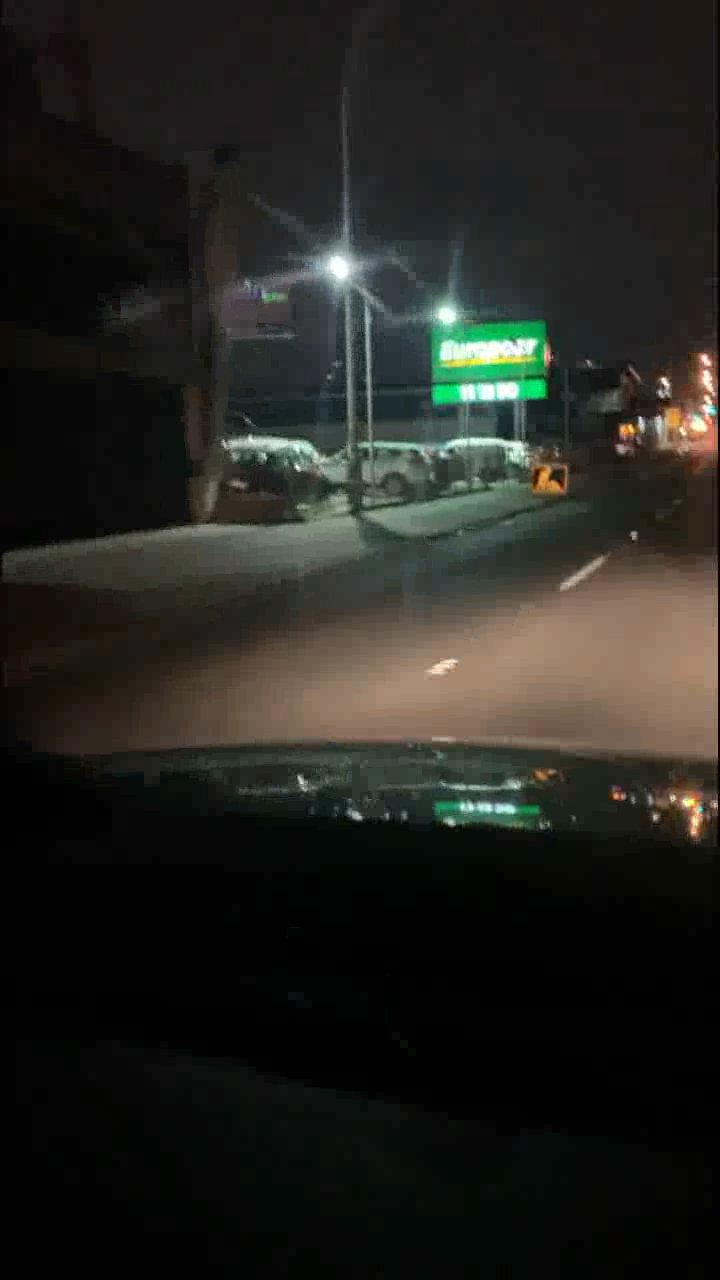road works sign board: (532, 470, 567, 495)
